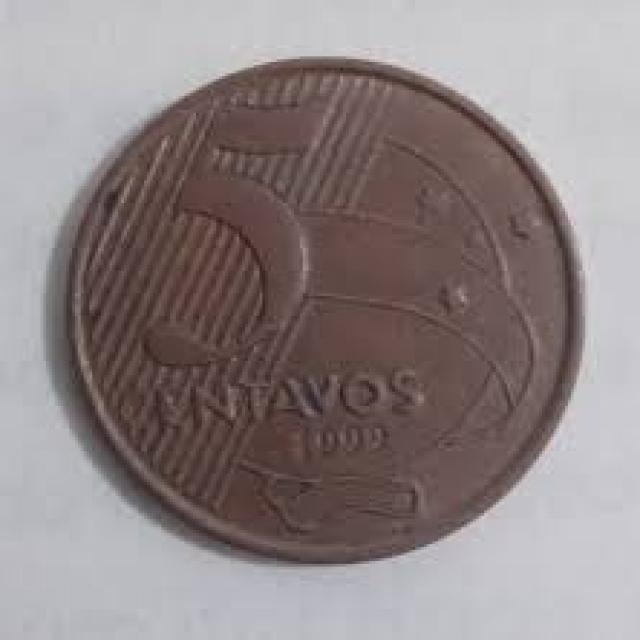5 cent: (71, 57, 584, 556)
